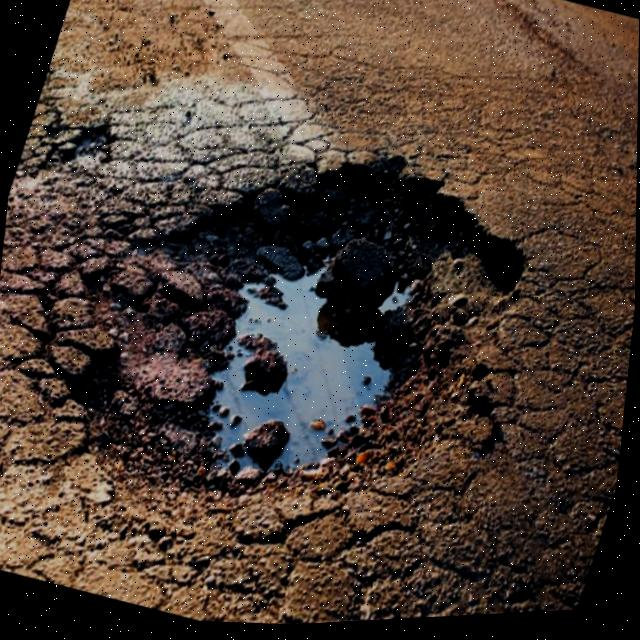Pothole: (49, 70, 573, 616)
